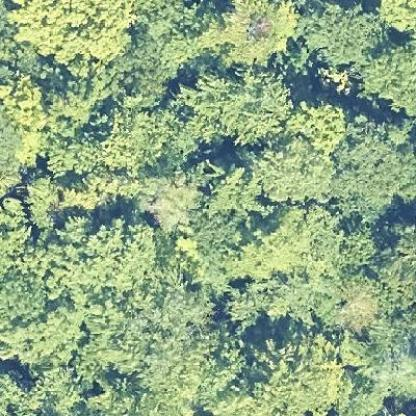tree-top: (47, 214, 161, 296), (181, 64, 297, 144), (245, 323, 346, 411), (5, 0, 136, 60), (287, 1, 389, 76), (289, 94, 347, 155), (139, 174, 203, 228), (44, 77, 96, 132), (23, 165, 62, 231), (332, 220, 382, 270)
